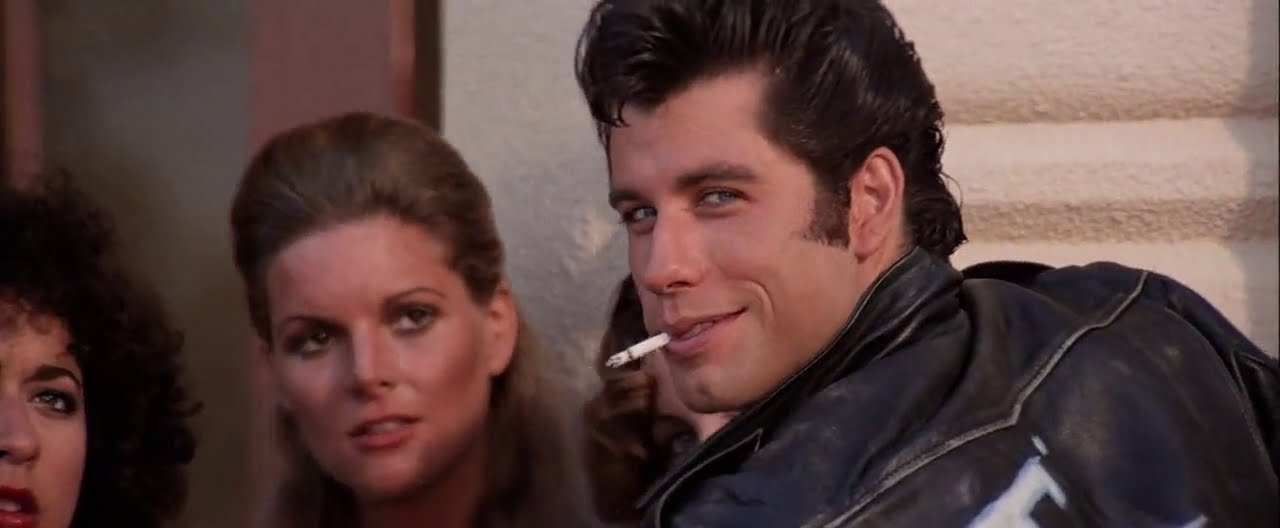cigarette: (593, 325, 683, 373)
